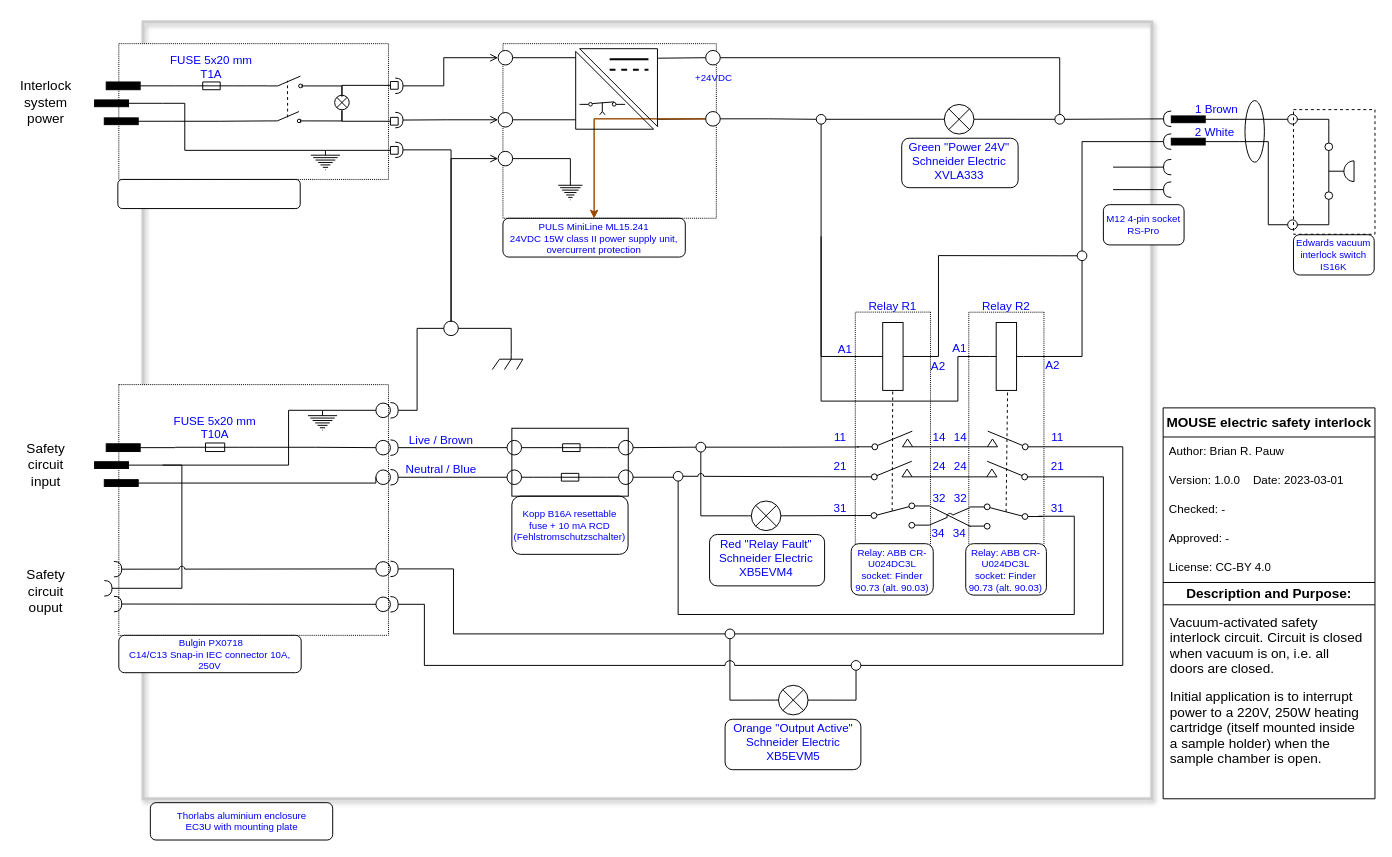
Image size: 1392x857. Some labels were removed from this diagram. The centre of each missing label's shape, as x and y in pixels:
"0VDC" goes at point 712,118.
"Bulgin BZH01/Z0000/11 C14 Snap-in IEC connector 10A, 250V" goes at point 208,193.
"PWM" goes at point 602,111.
"System ground bus" goes at point 450,328.
